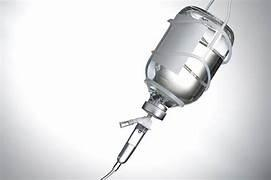Syringe: (101, 115, 150, 179)
